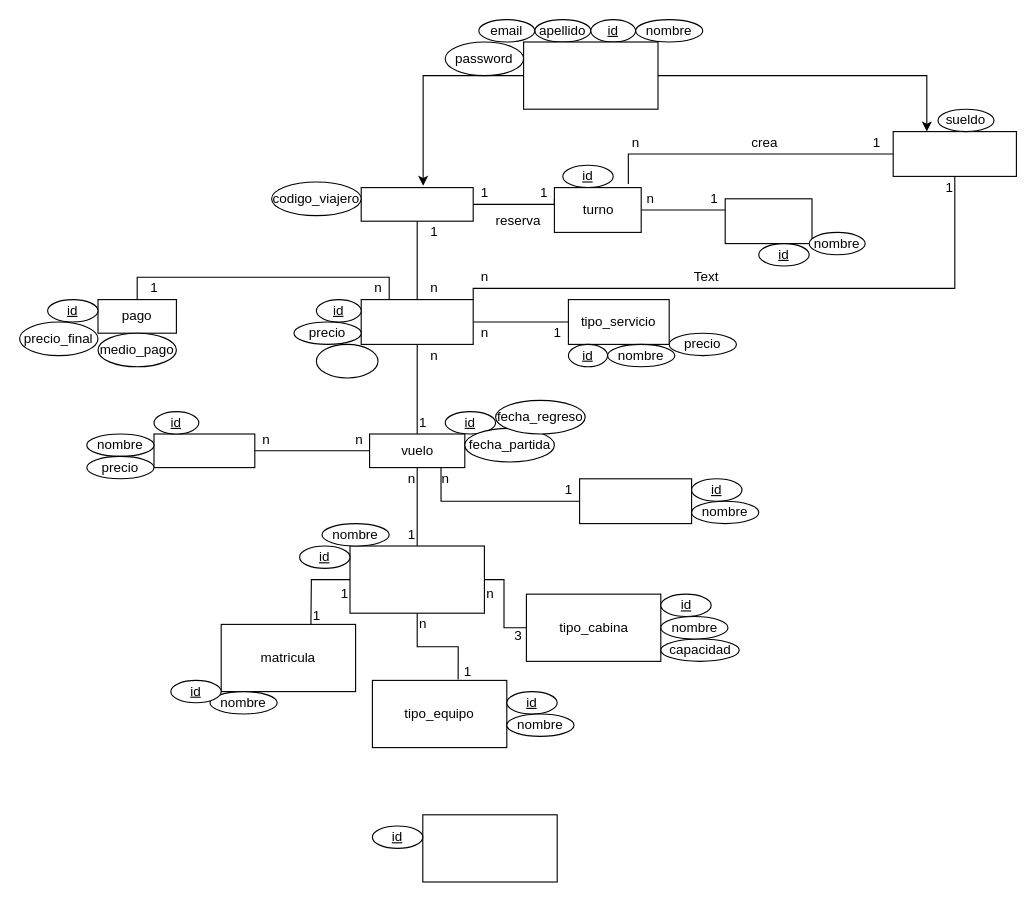
Some shapes in this 1036 by 902 pixel diagram are drawn without their labels. Each missing label, with the box of its shape:
centro_medico: (724, 198, 812, 244)
Cliente: (522, 41, 658, 109)
ClienteAdministrador: (892, 130, 1016, 176)
ClienteUsuario: (360, 186, 473, 221)
destino: (153, 433, 255, 468)
equipo: (349, 545, 484, 613)
id_pago: (315, 343, 378, 378)
pasaje: (360, 298, 473, 344)
punto_partida: (578, 478, 692, 524)
